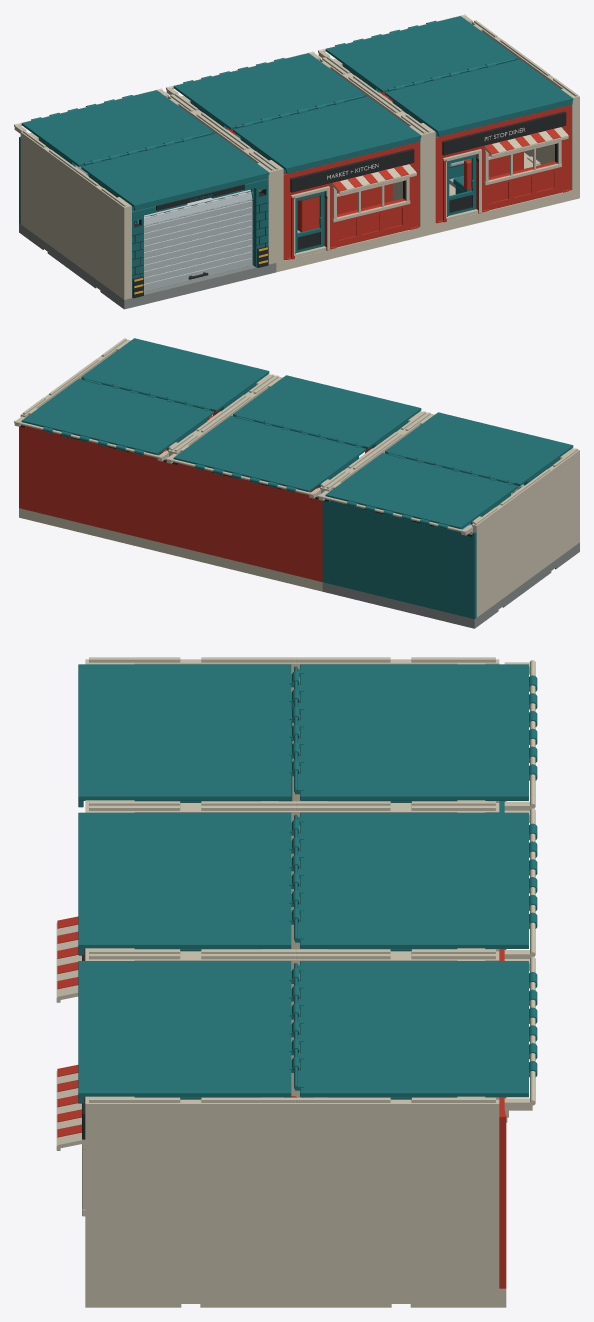
Rendered from garage-simple-hinges.glb.
3 views of the same model, one above another, from view 1: azimuth 30°, elevation 25°; view 2: azimuth 150°, elevation 25°; view 3: azimuth 270°, elevation 25° (orthographic). The views are drawn at different scales.
Parts seen in each view (by area): view 1: Kitchen_shop_removable_front, Dining_removable_storefront, Dining_roof_front, Kitchen_roof_front, Garage_roof_front, Dining_roof_rear, Kitchen_roof_rear, Garage_roof_rear, Module_1_Left_side_1, Module_1_Left_side_2, Floor_1_1, Floor_3_1 (+30 smaller); view 2: Rear_wall_1, Rear_wall_3, Rear_wall_2, Dining_roof_rear, Kitchen_roof_rear, Garage_roof_rear, Kitchen_roof_front, Dining_roof_front, Garage_roof_front, Module_1_Left_side_1, Module_1_Left_side_2, Floor_1_2 (+9 smaller); view 3: Module_3_Right_side_1, Module_3_Right_side_2, Kitchen_roof_rear, Garage_roof_rear, Dining_roof_rear, Kitchen_roof_front, Garage_roof_front, Dining_roof_front, Floor_3_1, Floor_3_2, Rear_wall_3, Dining_removable_storefront (+13 smaller).
Part boxes in pixels (x1,y1,x2,y2): Kitchen_shop_removable_front: (283,141,419,260); Dining_removable_storefront: (435,104,571,223); Dining_roof_front: (385,59,573,136); Kitchen_roof_front: (233,96,421,173); Garage_roof_front: (81,133,269,210); Dining_roof_rear: (325,16,517,92); Kitchen_roof_rear: (173,53,365,129); Garage_roof_rear: (21,90,213,166); Module_1_Left_side_1: (71,167,131,299); Module_1_Left_side_2: (20,130,83,260); Floor_1_1: (71,262,276,309); Floor_3_1: (428,152,579,235); Rear_wall_1: (318,490,476,619); Rear_wall_3: (14,416,170,544); Rear_wall_2: (166,453,322,581); Dining_roof_rear: (21,377,213,455); Kitchen_roof_rear: (173,414,365,492); Garage_roof_rear: (325,452,517,529); Kitchen_roof_front: (233,375,421,449); Dining_roof_front: (81,338,269,411); Garage_roof_front: (385,412,573,486); Module_1_Left_side_1: (515,448,579,580); Module_1_Left_side_2: (469,486,527,617); Floor_1_2: (322,581,527,628); Module_3_Right_side_1: (85,1096,295,1288); Module_3_Right_side_2: (296,1096,499,1288); Kitchen_roof_rear: (294,812,537,951); Garage_roof_rear: (294,664,537,802); Dining_roof_rear: (294,961,537,1099); Kitchen_roof_front: (78,812,299,955); Garage_roof_front: (78,664,299,807); Dining_roof_front: (78,961,299,1103); Floor_3_1: (85,1288,295,1307); Floor_3_2: (296,1288,506,1307); Rear_wall_3: (499,956,535,1288); Dining_removable_storefront: (56,1065,85,1216).
Bounding box in the file's own units: 6 × 1.33 × 2.74.
